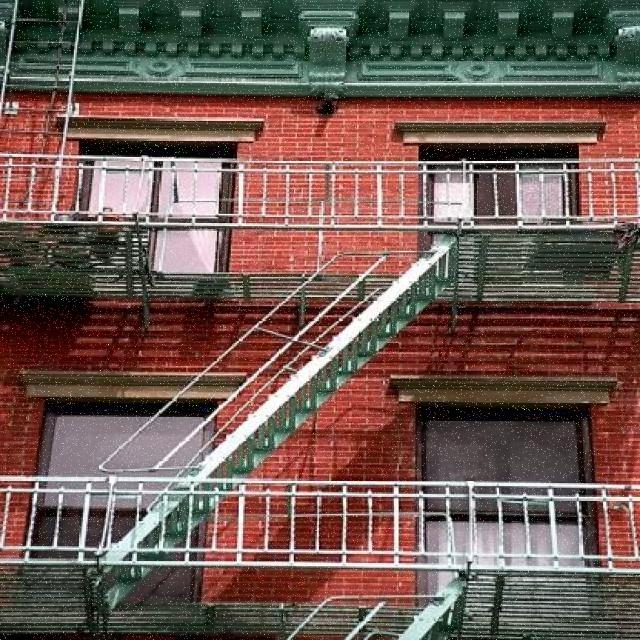stair: (83, 233, 451, 610)
